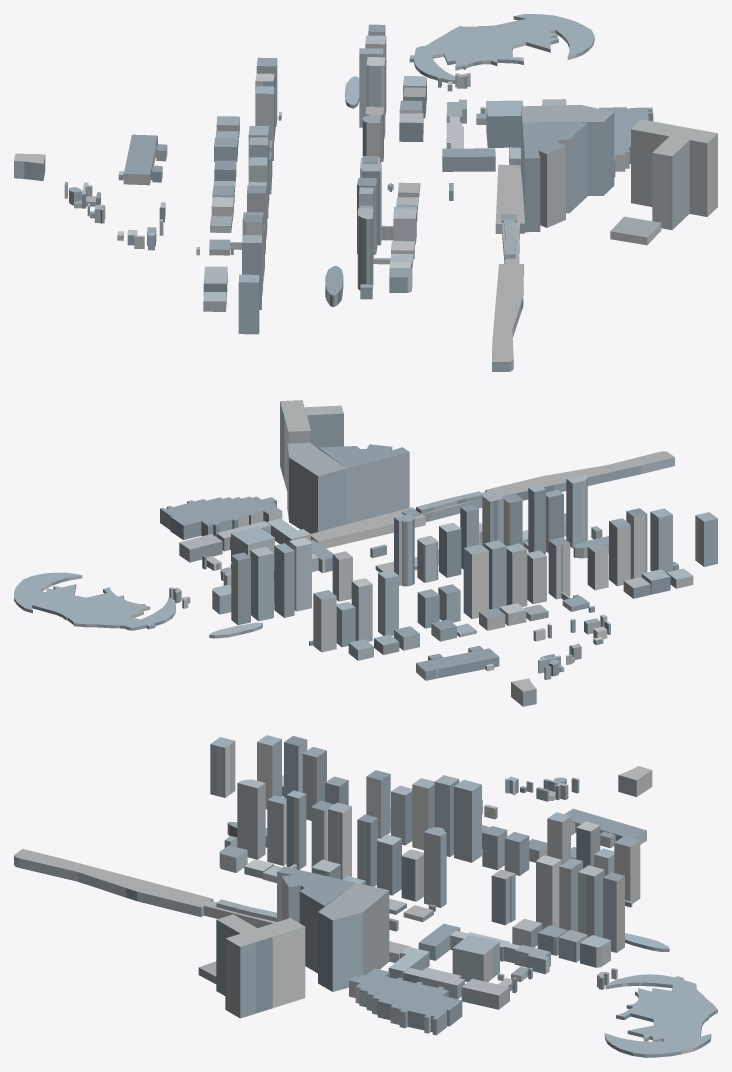
Rendered from dubai.glb.
3 views of the same model, one above another, from view 1: azimuth 30°, elevation 25°; view 2: azimuth 150°, elevation 25°; view 3: azimuth 270°, elevation 25° (orthographic). The views are drawn at different scales.
Visible parts, largest first — view 1: dubai; view 2: dubai; view 3: dubai.
Boxes of the visible parts, x1,y1,x2,y2 form: dubai: (14, 14, 717, 371); dubai: (14, 400, 717, 706); dubai: (14, 735, 717, 1057).
Size of the model in its own units: 1154 by 140 by 1248.
